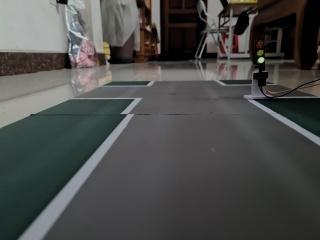green: (247, 36, 275, 71)
